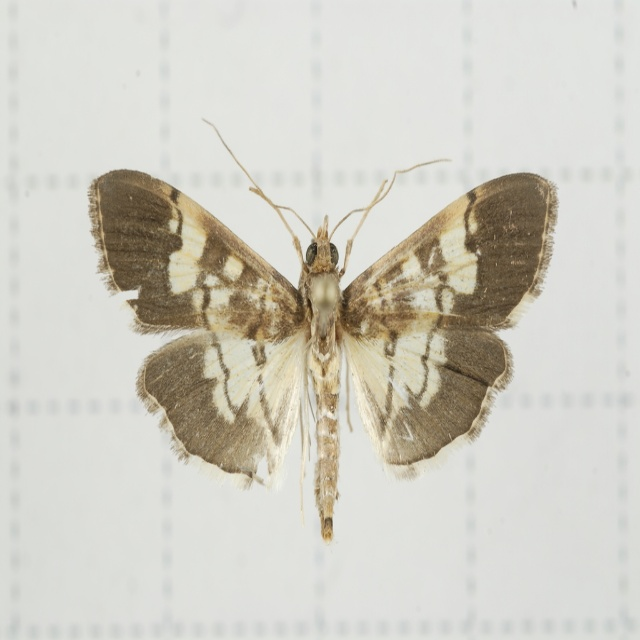Butterfly: (96, 134, 412, 531)
